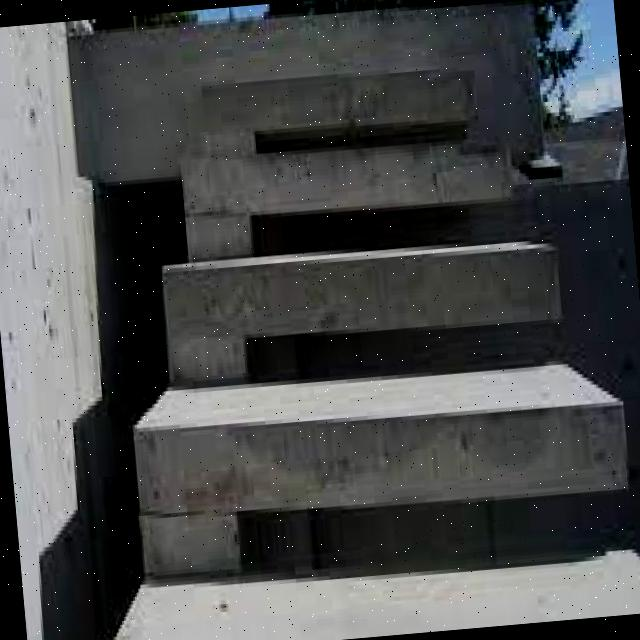stairs: (99, 44, 636, 592)
